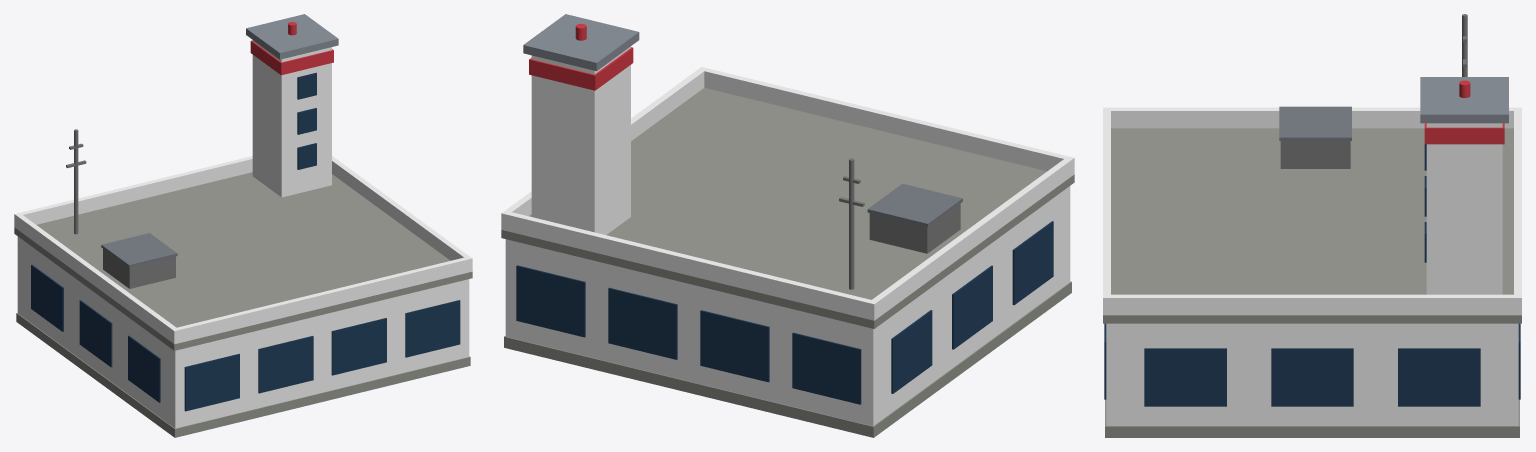
File: mashup-main-top-prebuilt.fbx
3 renders of one model, left to right at view 1: azimuth 30°, elevation 25°; view 2: azimuth 150°, elevation 25°; view 3: azimuth 270°, elevation 25°, orthographic. The views are drawn at different scales.
Visible parts, largest first — view 1: a1052.MainTop; view 2: a1052.MainTop; view 3: a1052.MainTop.
Boxes of the visible parts, x1,y1,x2,y2 form: a1052.MainTop: [14, 14, 472, 437]; a1052.MainTop: [501, 14, 1074, 437]; a1052.MainTop: [1103, 14, 1521, 437].
Bounding box in the file's own units: 14.2 × 11.45 × 13.2.
